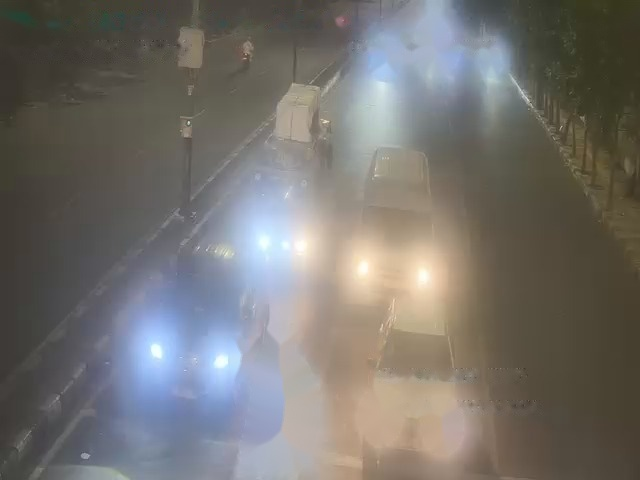Mobil: (150, 238, 256, 396), (368, 295, 460, 445), (351, 149, 436, 292)
Truk: (251, 106, 331, 277)
